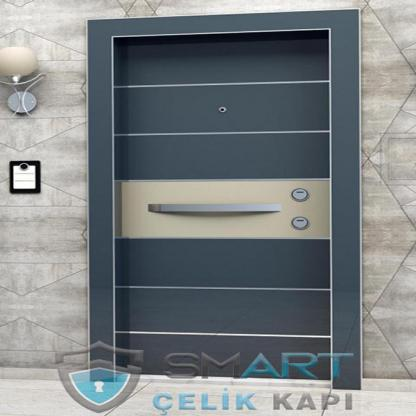door: (113, 37, 328, 393)
